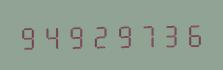four: (40, 21, 62, 50)
nine: (17, 21, 39, 51), (63, 20, 85, 50), (109, 20, 131, 49)
seven: (132, 19, 154, 49)
six: (178, 18, 200, 48)
three: (155, 19, 177, 48)
two: (86, 20, 108, 50)
